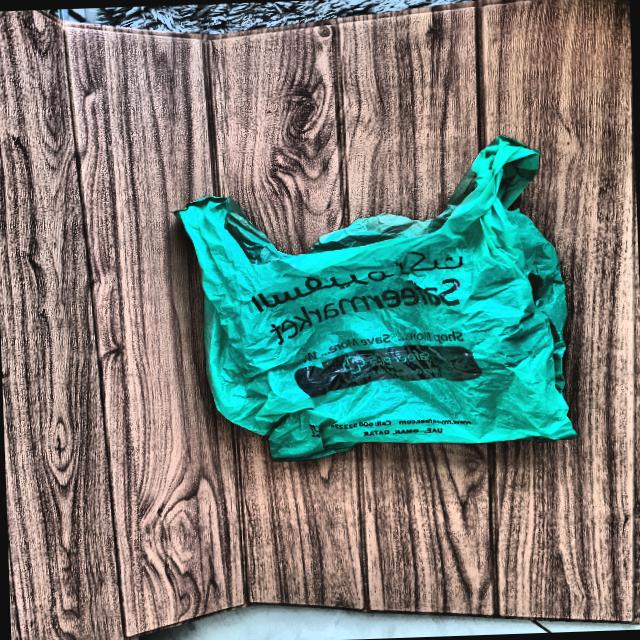plastic bag: (129, 126, 592, 488)
